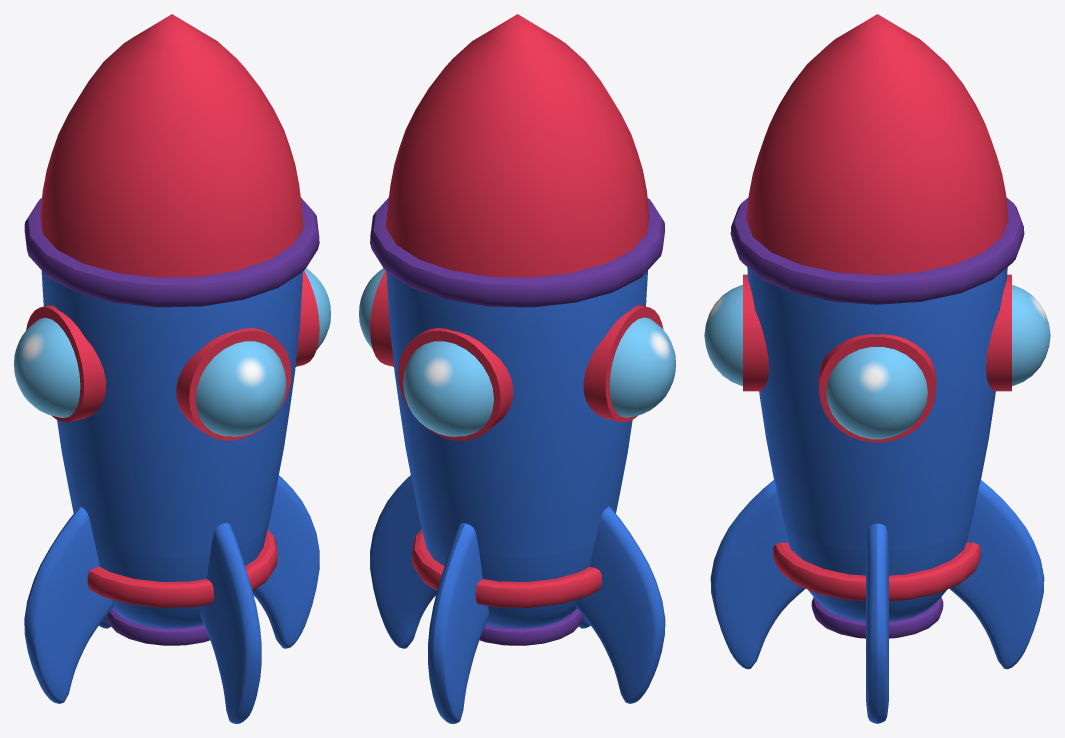
Rendered from CartoonSpaceRocket.obj.
The picture shows the model from 3 angles, left to right: view 1: azimuth 30°, elevation 25°; view 2: azimuth 150°, elevation 25°; view 3: azimuth 270°, elevation 25°; orthographic projection.
Parts seen in each view (by area): view 1: Space_Rocket; view 2: Space_Rocket; view 3: Space_Rocket.
Boxes of the visible parts, bbox=[...] form: Space_Rocket: bbox=[14, 14, 330, 723]; Space_Rocket: bbox=[359, 14, 675, 723]; Space_Rocket: bbox=[704, 14, 1050, 723].
Bounding box in the file's own units: 2.85 × 5.94 × 2.85.
1 material, 1 textured.
